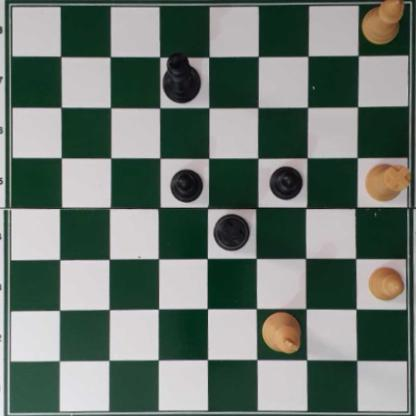black-king: (160, 51, 203, 102)
black-pawn: (268, 164, 302, 200), (170, 169, 203, 203)
black-rook: (214, 212, 250, 251)
white-bishop: (359, 0, 405, 43)
white-king: (260, 309, 300, 355)
white-pawn: (366, 263, 404, 301)
white-rook: (363, 162, 409, 201)
